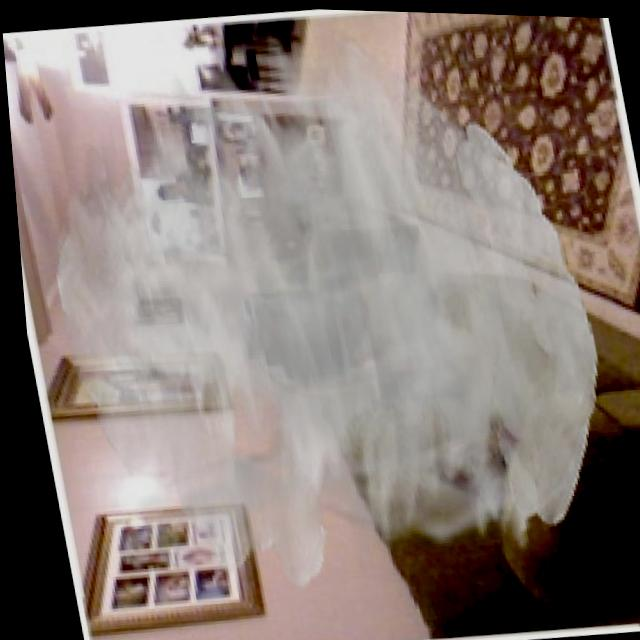Smoke: (11, 12, 626, 601)
